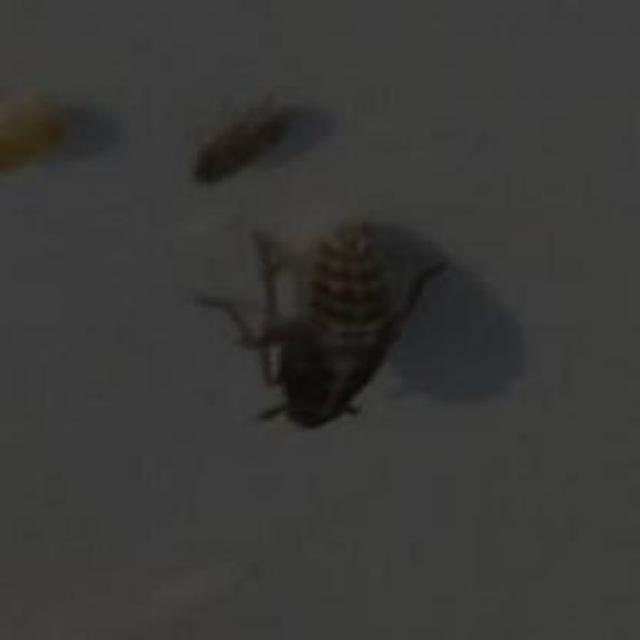brown-planthopper: (269, 216, 406, 436), (182, 93, 304, 184)
